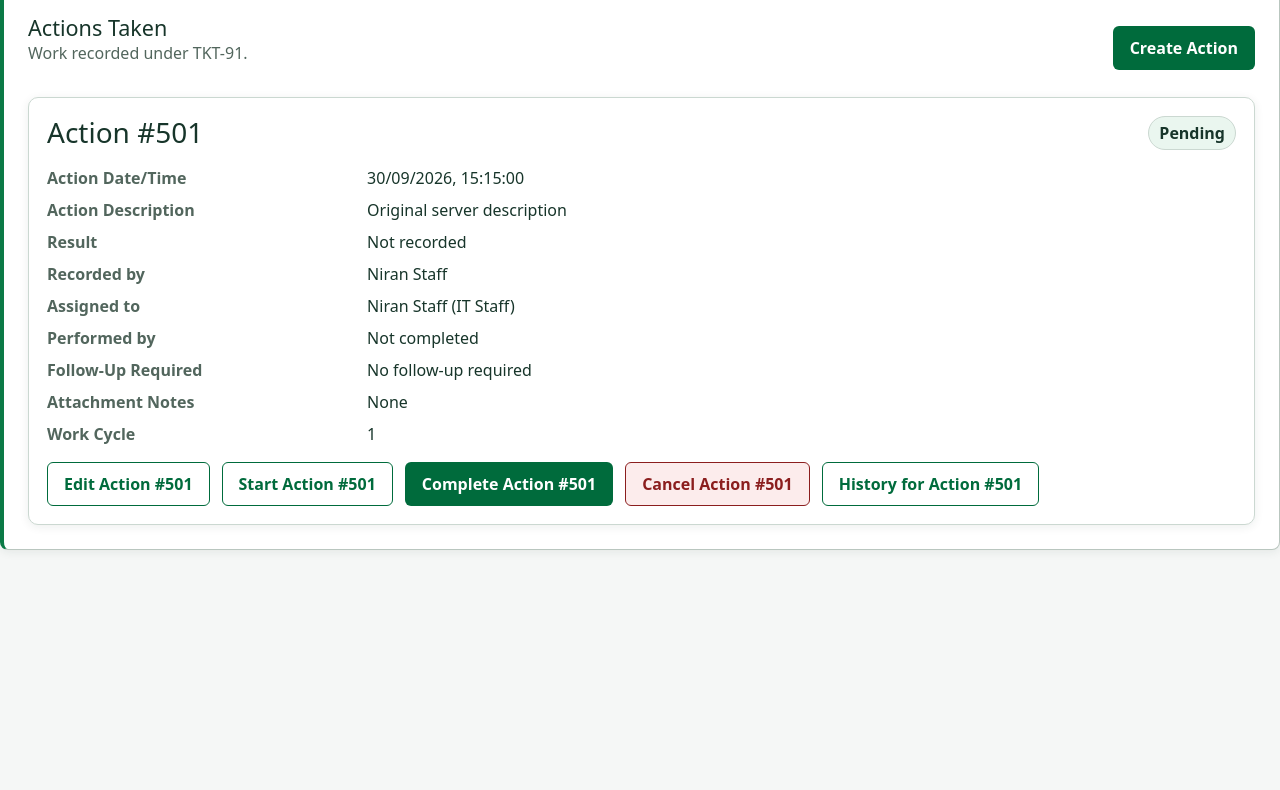
Scenario: SAFE-01 recoverable Action network failure › keeps an edited Action draft and handles a lost network response without an unhandled promise
Click the button "Edit Action #501": (128, 484) [47, 462, 210, 506]
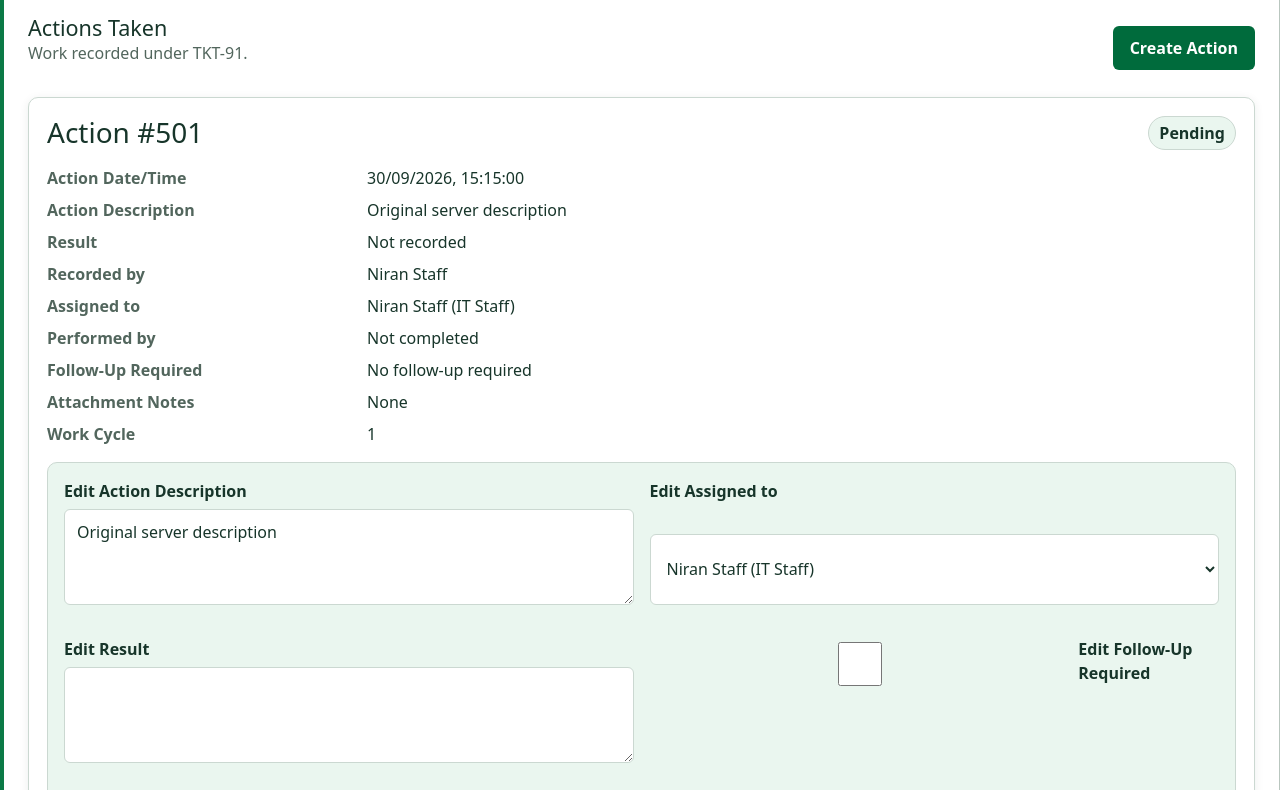
Replace the text in the text box labelled "Edit Action Description" with "Keep this diagnostic draft after connection loss": (349, 557) [64, 509, 634, 605]
(page scrolled)
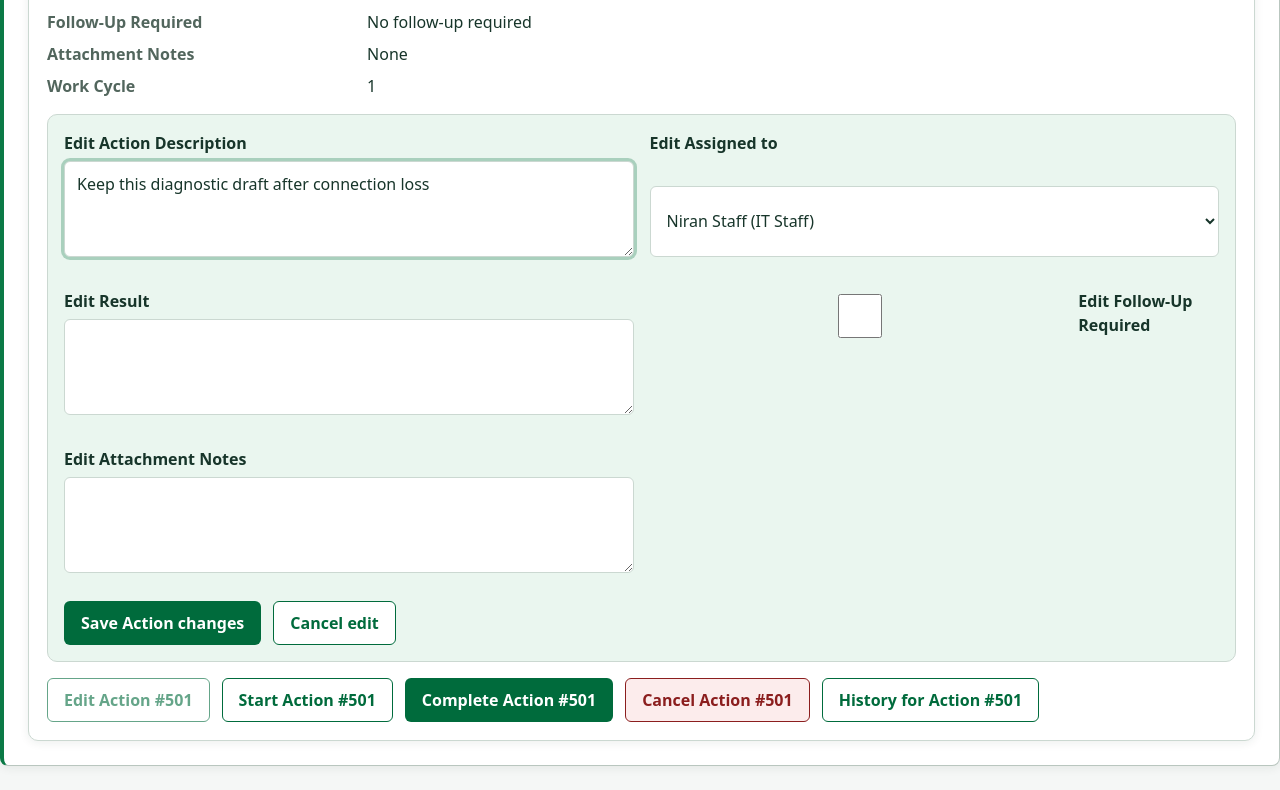
Click the button "Save Action changes": (163, 623) [64, 601, 261, 645]
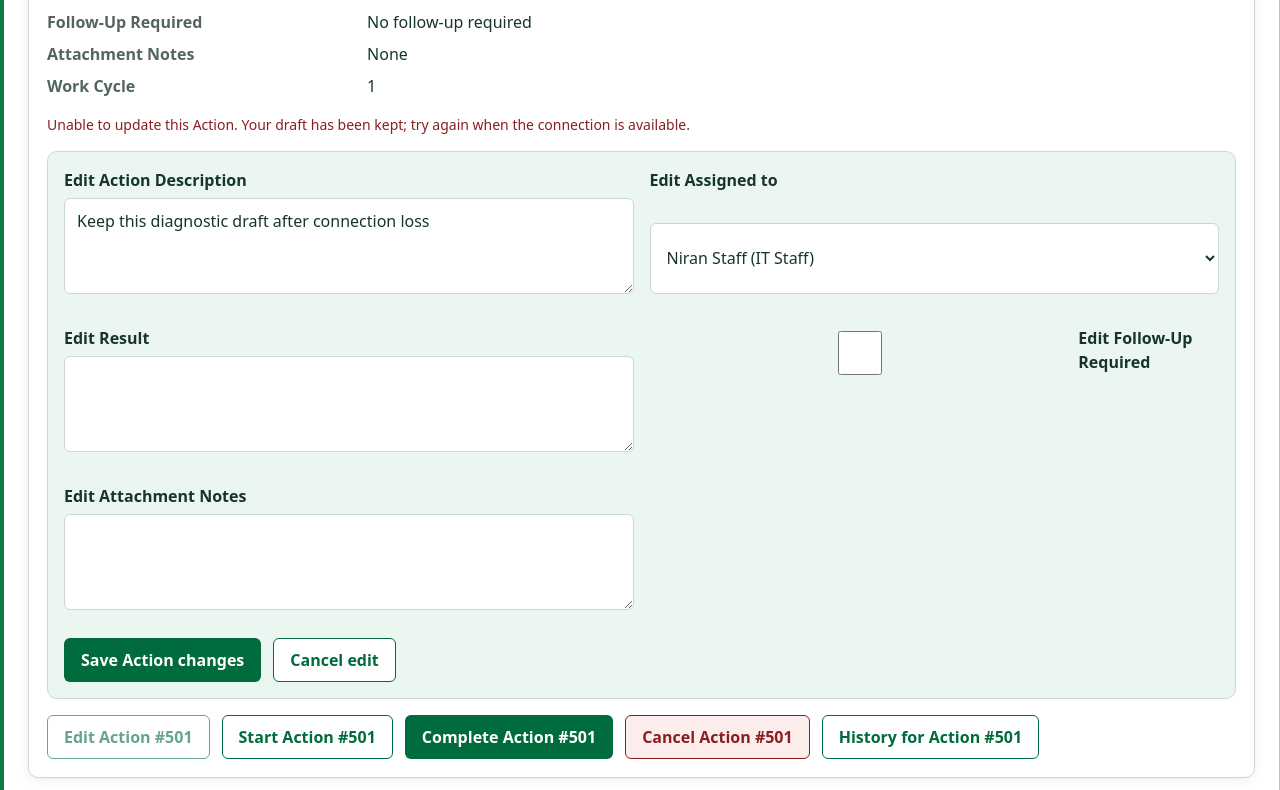
expect the button "Save Action changes" is enabled: met, box [64, 638, 261, 682]
expect the message shows "draft has been kept": met, box [47, 115, 690, 134]
